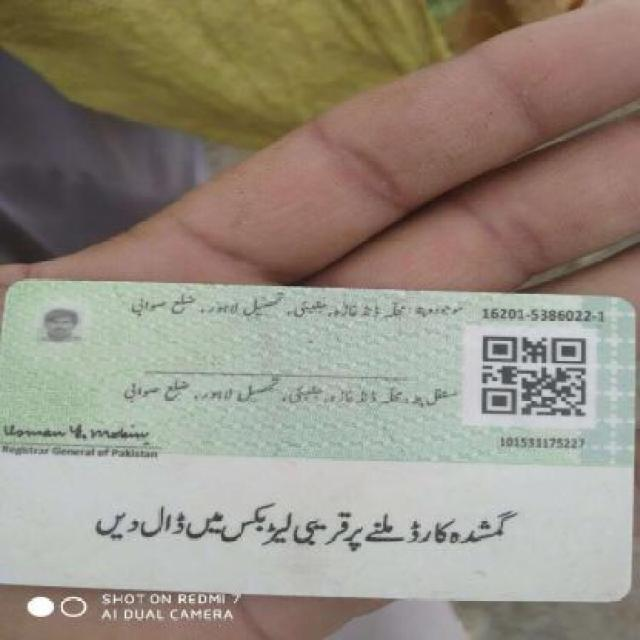Back: (3, 277, 634, 606)
